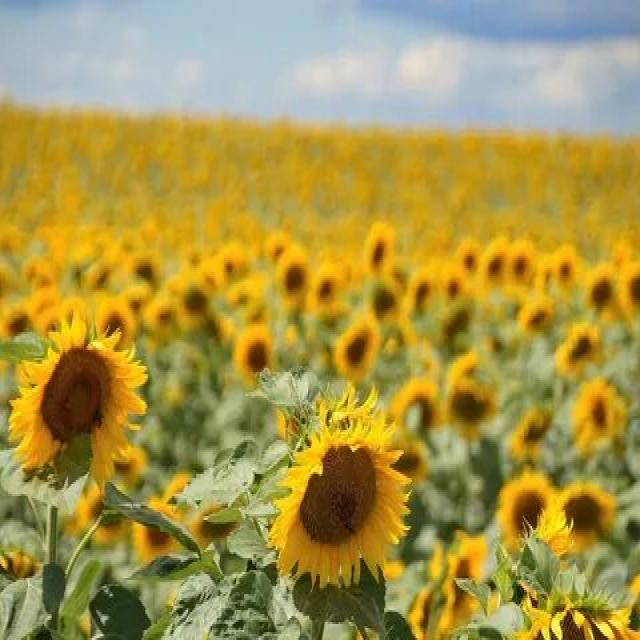sunflower: (7, 314, 157, 514), (271, 398, 417, 592), (494, 460, 554, 562), (574, 380, 622, 456), (231, 324, 277, 392), (336, 312, 380, 382), (480, 236, 508, 292)
